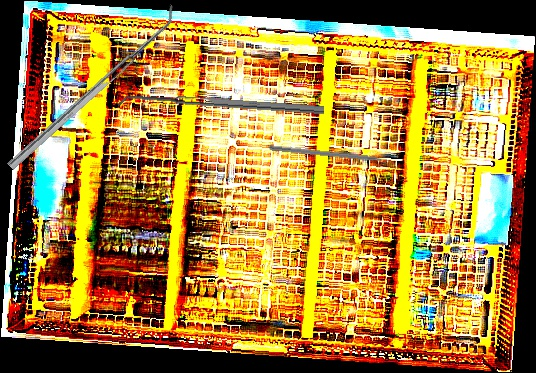Chopper: (267, 145, 401, 171)
Spatula Surgical: (1, 4, 183, 170), (117, 91, 325, 123)
